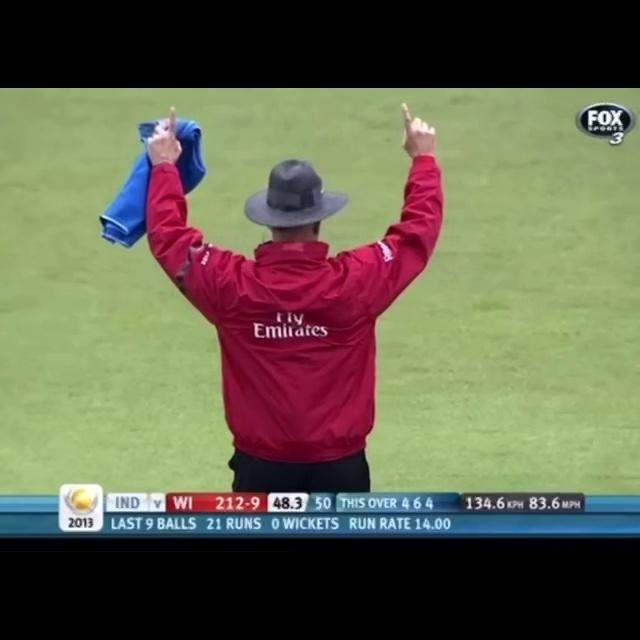umpire: (113, 93, 475, 489)
